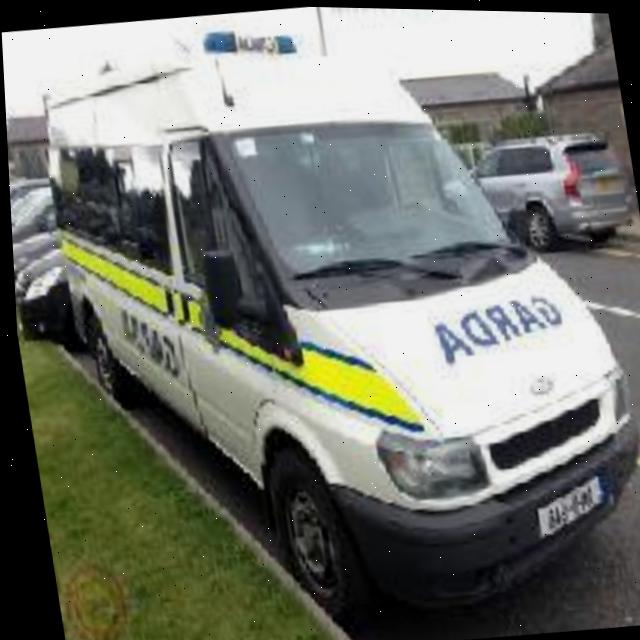emergency: (32, 5, 628, 611)
